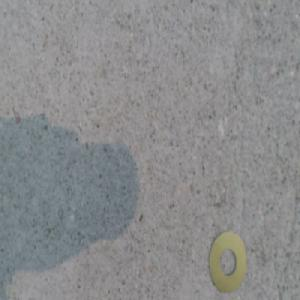Washer: (209, 230, 247, 292)
